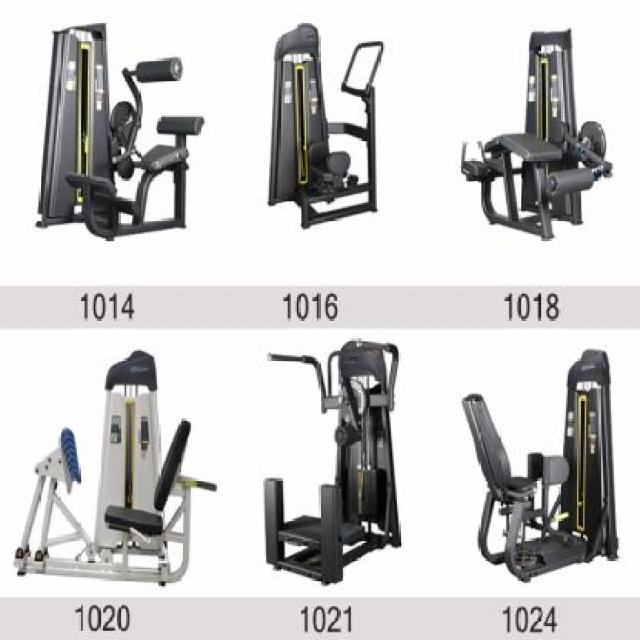lateral raises machine: (260, 339, 403, 586)
reg curl machine: (458, 28, 612, 242)
